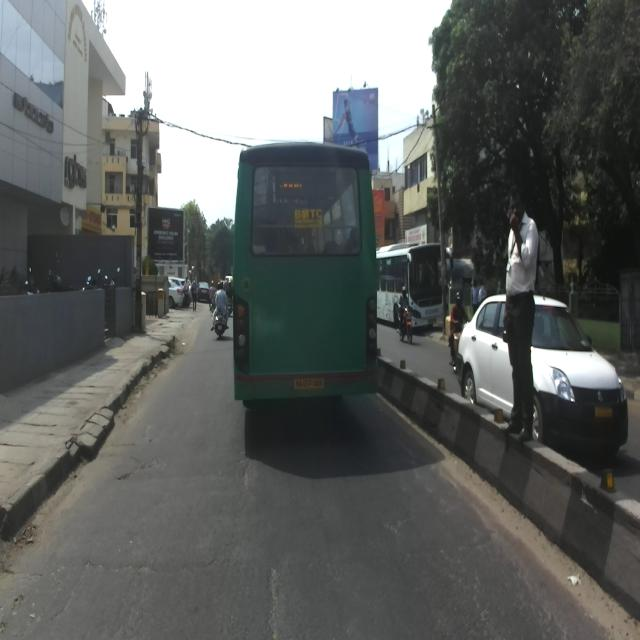bus ahead at: (230, 137, 383, 412)
electric pole ahead at: (127, 101, 155, 352)
person ahead at: (502, 178, 543, 446)
